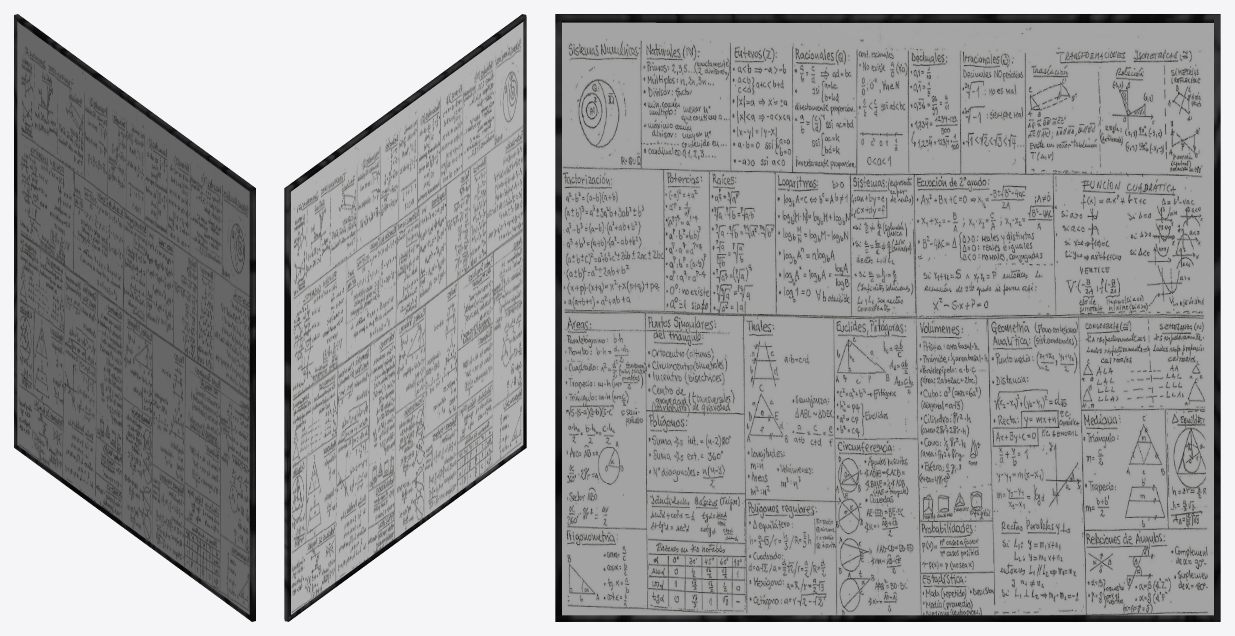
The model's file is Cuadro3.fbx.
3 views of the same model, side by side, from view 1: azimuth 30°, elevation 25°; view 2: azimuth 150°, elevation 25°; view 3: azimuth 270°, elevation 25° (orthographic). The views are drawn at different scales.
Visible parts, largest first — view 1: Cube_004, Cube_001; view 2: Cube_004, Cube_001; view 3: Cube_004, Cube_001.
Part boxes in pixels (x1=…): Cube_004: x1=17, y1=22, x2=249, y2=614; Cube_001: x1=14, y1=14, x2=255, y2=621; Cube_004: x1=291, y1=22, x2=523, y2=614; Cube_001: x1=284, y1=14, x2=526, y2=621; Cube_004: x1=562, y1=22, x2=1213, y2=615; Cube_001: x1=555, y1=14, x2=1220, y2=621.
Size of the model in its own units: 0.0471 by 4.79 by 4.77.
Materials: 5 (5 with a texture image).
